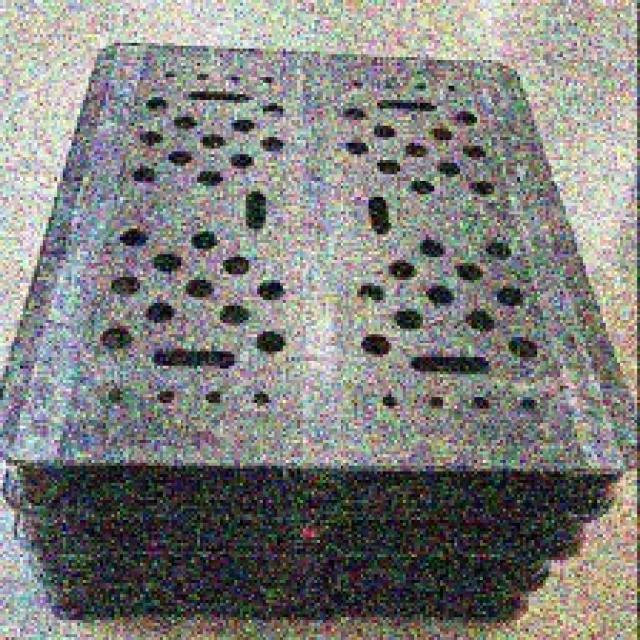igps: (0, 33, 640, 537), (0, 504, 591, 576), (19, 538, 561, 602), (30, 572, 538, 632)
